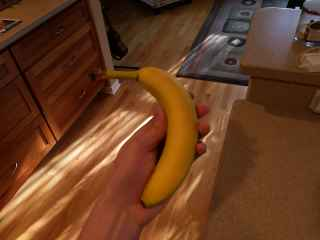banana: (88, 65, 201, 211)
